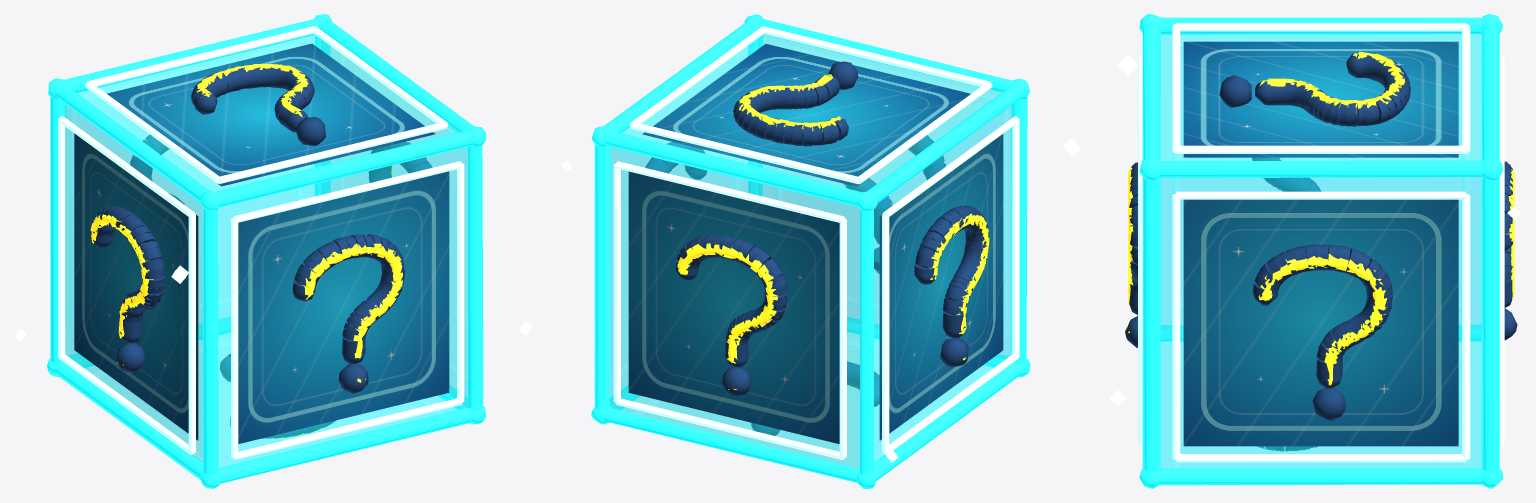
File: question-mark-item-box.glb
3 renders of one model, left to right at view 1: azimuth 30°, elevation 25°; view 2: azimuth 150°, elevation 25°; view 3: azimuth 270°, elevation 25°, orthographic. The views are drawn at different scales.
Parts seen in each view (by area): view 1: six_textured_blue_panels_2, rounded_cyan_edge_frame_3, translucent_cube_body_1, cyan_panel_rims_4, raised_question_mark_outlines_5, raised_golden_question_marks_6; view 2: six_textured_blue_panels_2, rounded_cyan_edge_frame_3, translucent_cube_body_1, cyan_panel_rims_4, raised_question_mark_outlines_5, raised_golden_question_marks_6; view 3: six_textured_blue_panels_2, rounded_cyan_edge_frame_3, translucent_cube_body_1, cyan_panel_rims_4, raised_question_mark_outlines_5, raised_golden_question_marks_6, small_floating_sparkles_7.
Part boxes in pixels (box(x1,y1,x2,y2)): six_textured_blue_panels_2: box(74, 43, 449, 443); rounded_cyan_edge_frame_3: box(47, 14, 485, 488); translucent_cube_body_1: box(65, 35, 467, 467); cyan_panel_rims_4: box(58, 26, 467, 461); raised_question_mark_outlines_5: box(90, 64, 431, 438); raised_golden_question_marks_6: box(90, 64, 432, 438); six_textured_blue_panels_2: box(628, 44, 1003, 443); rounded_cyan_edge_frame_3: box(591, 14, 1030, 488); translucent_cube_body_1: box(609, 34, 1012, 468); cyan_panel_rims_4: box(610, 26, 1019, 468); raised_question_mark_outlines_5: box(646, 61, 988, 435); raised_golden_question_marks_6: box(645, 74, 989, 389); six_textured_blue_panels_2: box(1183, 41, 1458, 446); rounded_cyan_edge_frame_3: box(1139, 14, 1502, 488); translucent_cube_body_1: box(1160, 33, 1481, 467); cyan_panel_rims_4: box(1138, 23, 1504, 467); raised_question_mark_outlines_5: box(1125, 52, 1517, 450); raised_golden_question_marks_6: box(1125, 51, 1514, 451); small_floating_sparkles_7: box(1109, 55, 1521, 405).
Size of the model in its own units: 2.79 by 2.4 by 2.52.
7 materials, 1 textured.
